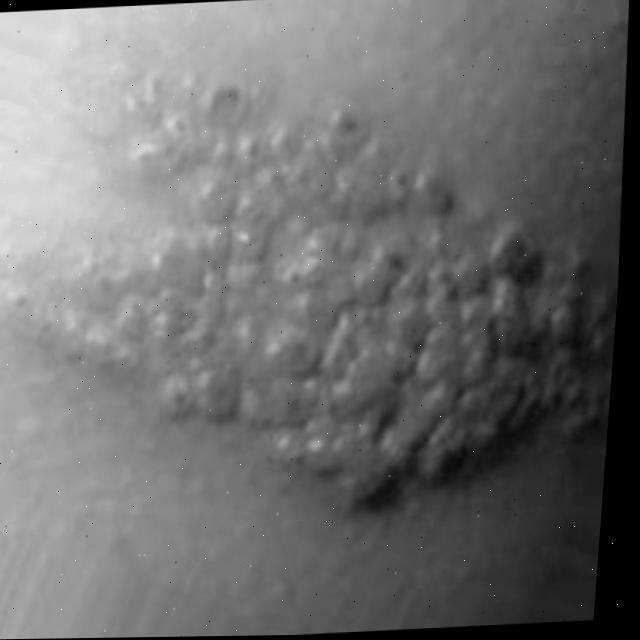Shingles: (0, 89, 633, 529)
